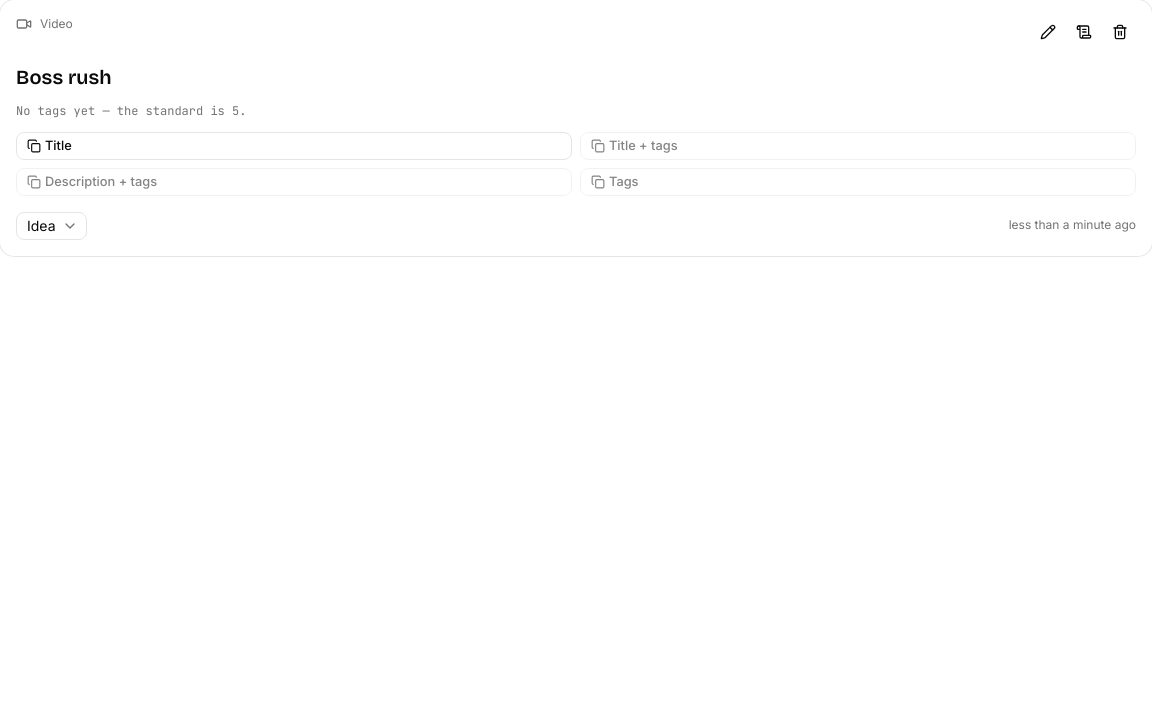
Test: IdeaCard › opens the editor prefilled when the pencil is clicked
Click the button named "Edit \"Boss rush\"". click: (1048, 32)
box: x1=1032 y1=16 x2=1064 y2=48
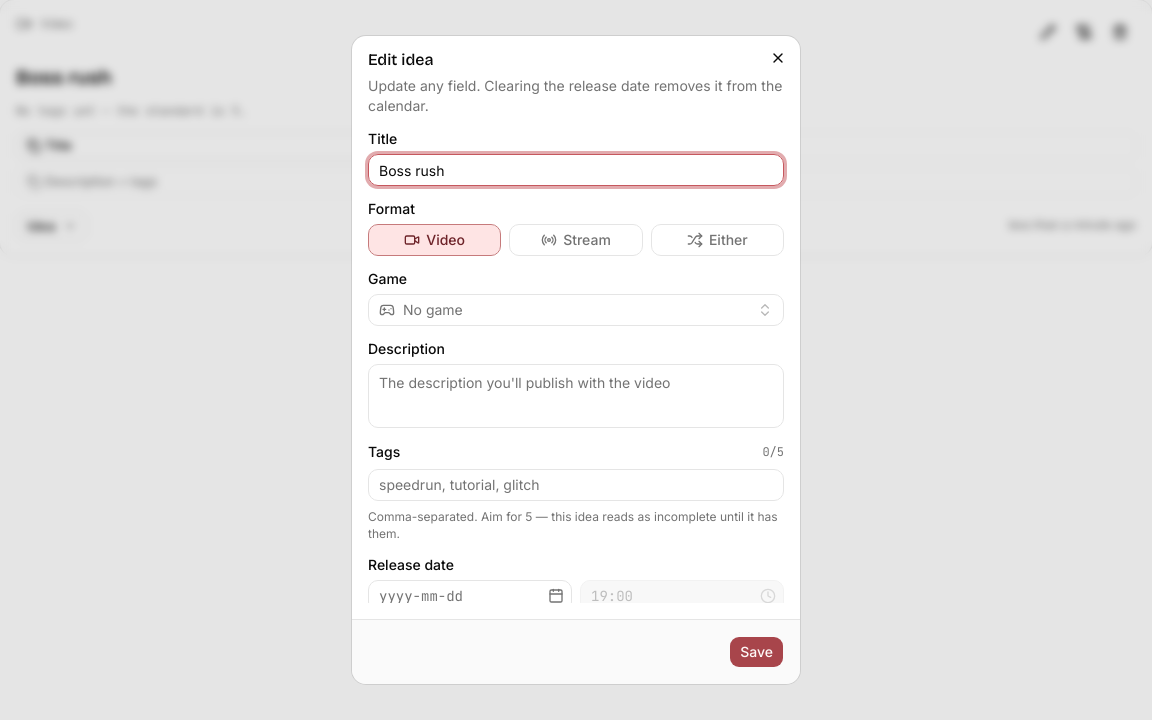
Result: the heading "Edit idea" is shown at x1=368 y1=50 x2=434 y2=69
Result: the field labelled "Title" holds "Boss rush" at x1=368 y1=154 x2=784 y2=186
